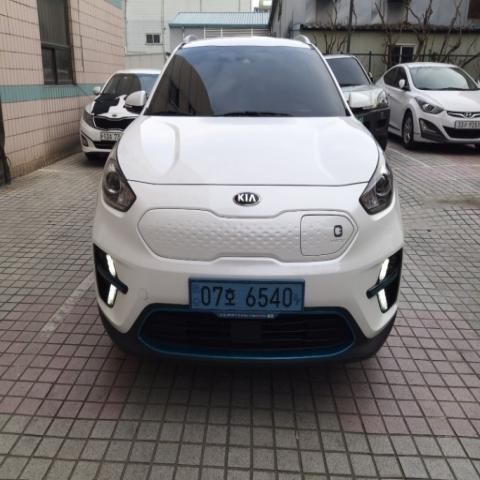LP: (183, 271, 313, 326)
